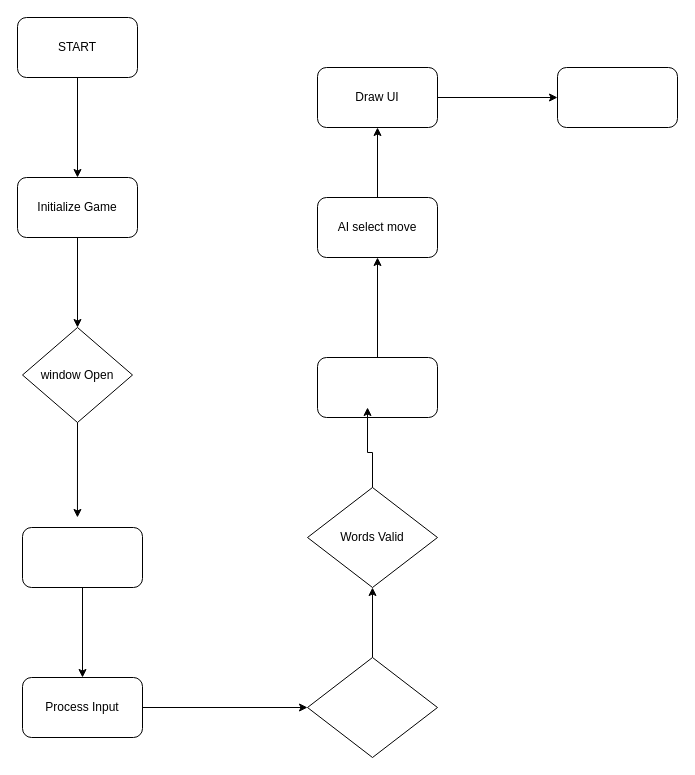
The diagram is 695 pixels wide and 775 high, and some of its shapes have lost their labels. Each missing label, with the centre of its shape:
"AI turn" goes at point (377, 387).
"END" goes at point (617, 97).
"Poll event" goes at point (82, 557).
"Tiles Placed" goes at point (372, 707).
